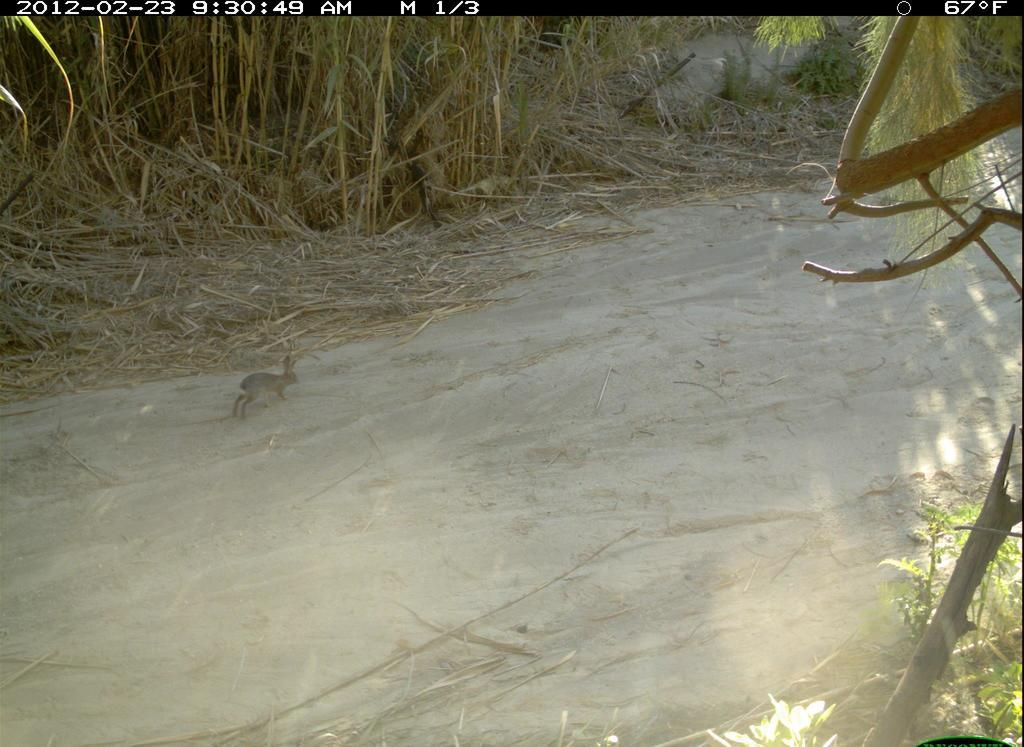rabbit: (226, 351, 306, 427)
